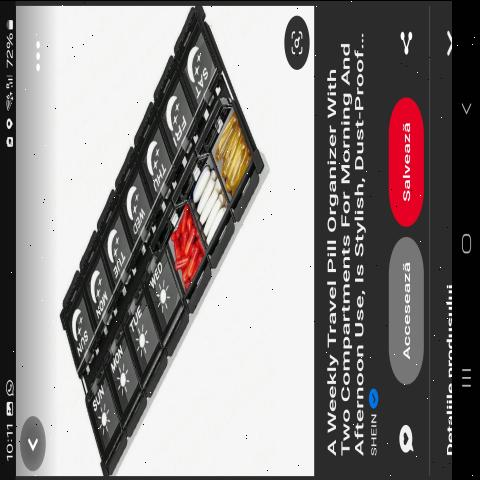PillBox: (55, 0, 270, 474)
